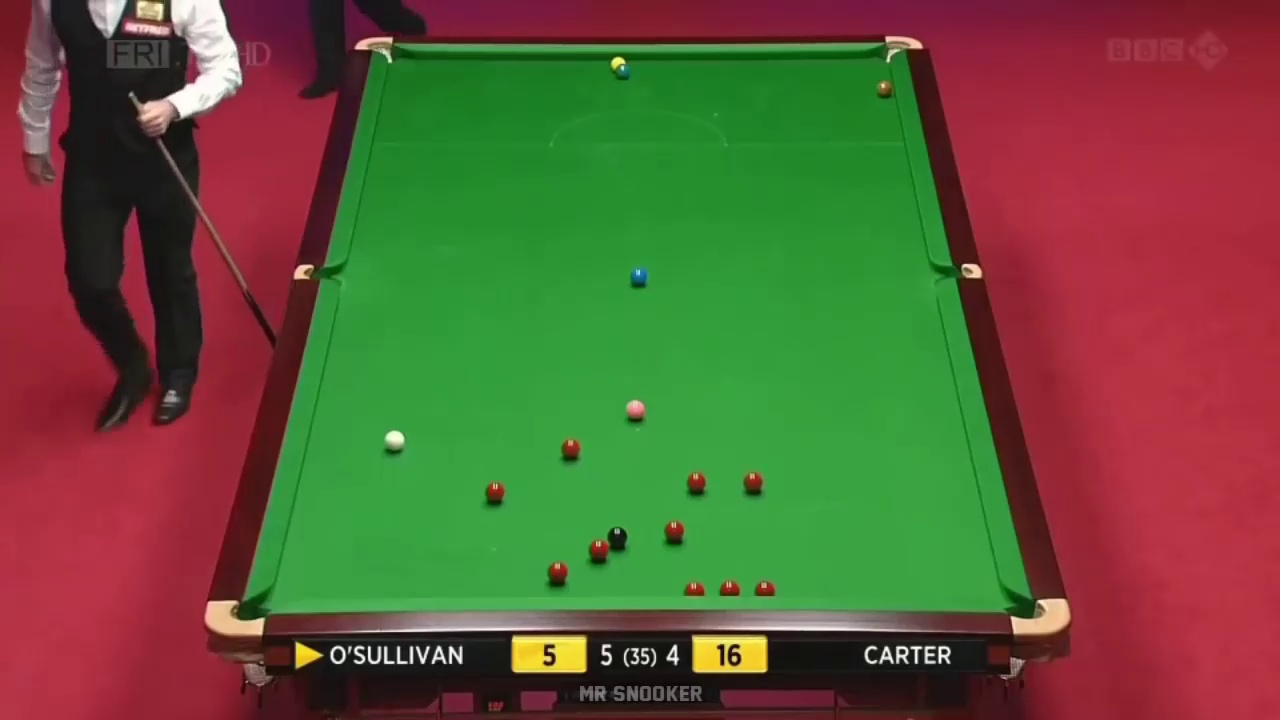ball: (382, 429, 406, 454), (627, 397, 649, 422), (664, 519, 686, 544), (588, 537, 608, 561), (744, 470, 763, 495), (559, 437, 581, 458), (484, 483, 507, 503), (630, 265, 649, 287), (547, 561, 566, 583), (686, 470, 704, 492), (877, 79, 894, 93), (616, 63, 631, 78)
